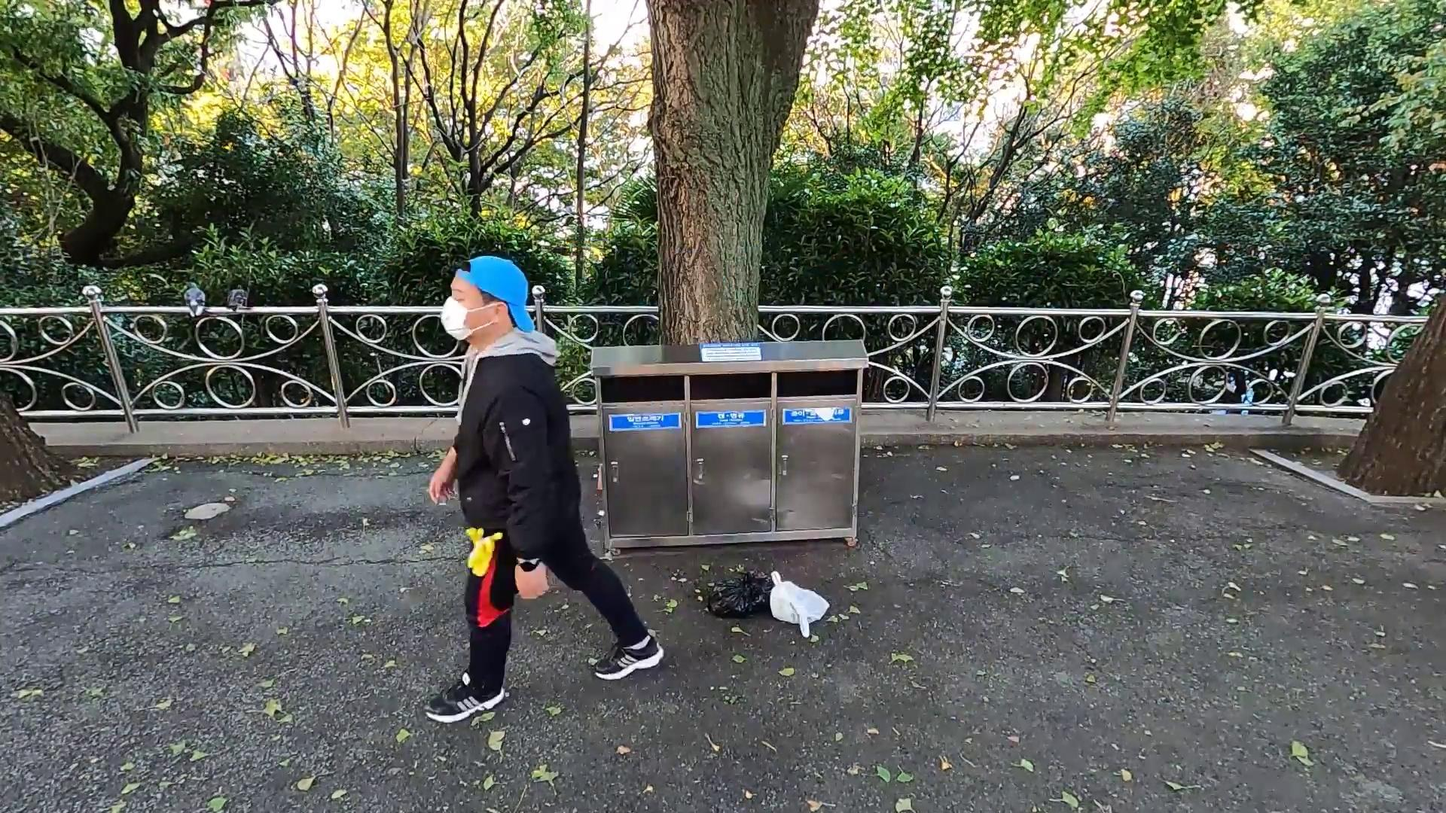person: (409, 245, 673, 738)
trash: (766, 572, 837, 635), (704, 569, 768, 633)
